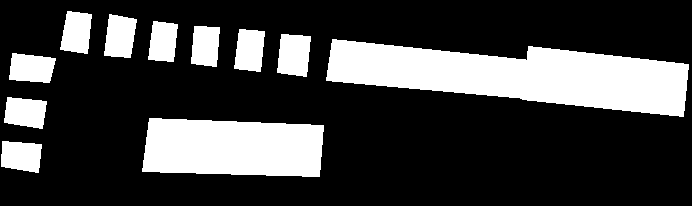parkingspot: (326, 39, 530, 98), (522, 46, 688, 116), (142, 118, 323, 176), (277, 34, 310, 76), (104, 14, 136, 57), (9, 53, 55, 82), (4, 97, 46, 128), (60, 11, 91, 53), (234, 29, 264, 71), (1, 141, 41, 172), (148, 21, 177, 61), (191, 26, 219, 66)
